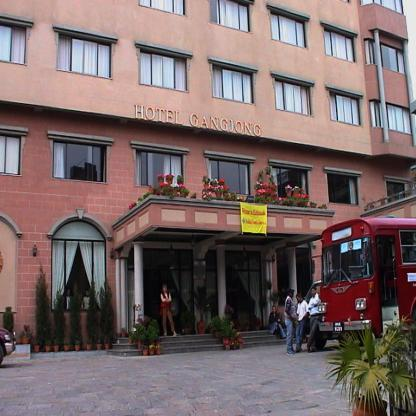Bus: (316, 215, 415, 343)
